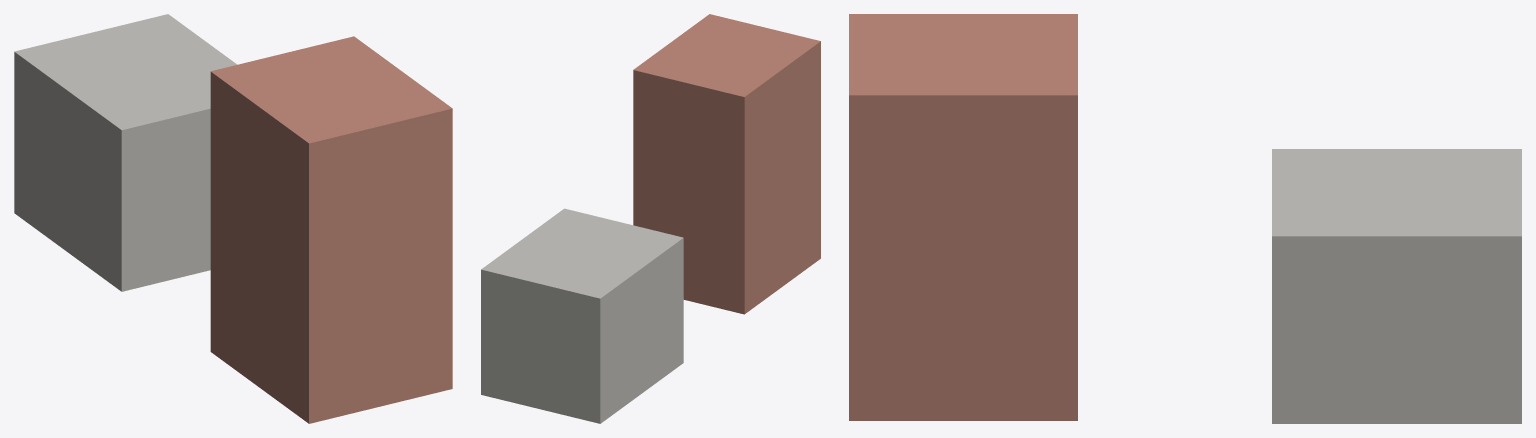
Rendered from world_lod1.glb.
3 views of the same model, side by side, from view 1: azimuth 30°, elevation 25°; view 2: azimuth 150°, elevation 25°; view 3: azimuth 270°, elevation 25° (orthographic). The views are drawn at different scales.
Parts seen in each view (by area): view 1: MGR Forge Test Neighborhood LOD1; view 2: MGR Forge Test Neighborhood LOD1; view 3: MGR Forge Test Neighborhood LOD1.
Part boxes in pixels (x1,y1,x2,y2): MGR Forge Test Neighborhood LOD1: (14,14,452,423); MGR Forge Test Neighborhood LOD1: (481,14,820,423); MGR Forge Test Neighborhood LOD1: (849,14,1521,423).
Bounding box in the file's own units: 11.43 × 19.9 × 37.26.
